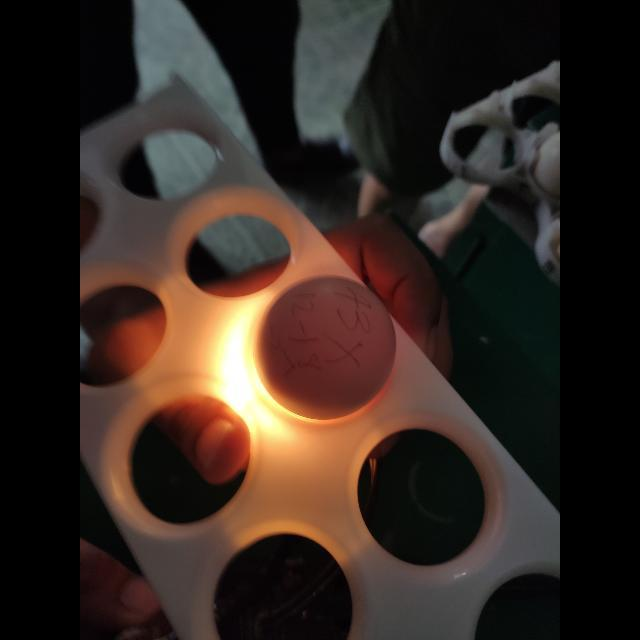Fertile: (253, 276, 397, 418)
